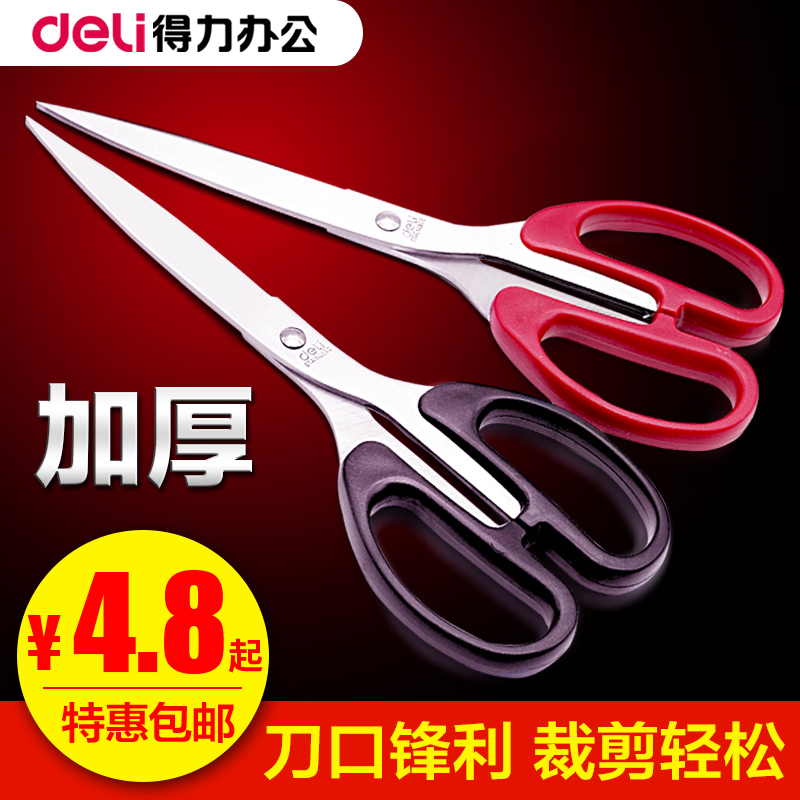scissors: (11, 111, 697, 681), (26, 82, 788, 463)
